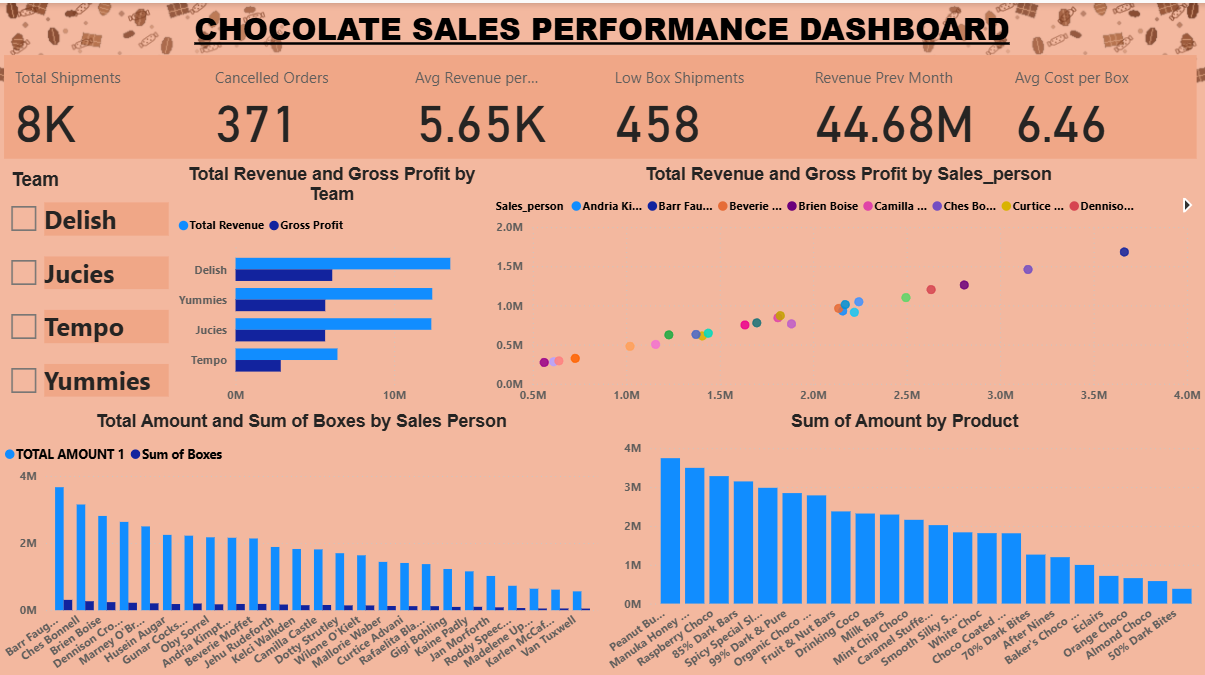

The dashboard page shown, as its layout file describes it:
{"tool":"powerbi","page":{"name":"Page 02","canvas":[1280,720],"ordinal":1},"visuals":[{"type":"textbox","box":[0,0,1278.9,63.6],"z":0},{"type":"cardVisual","fields":{"Data":["calendar.Total Shipments","calendar.Cancelled Orders","calendar.Avg Revenue per Shipment","calendar.Low Box Shipments","calendar.Revenue Prev Month","calendar.Avg Cost per Box"]},"box":[0,51,1279.4,120.9],"z":1000},{"type":"clusteredBarChart","fields":{"Category":["people.Team"],"Y":["calendar.Total Revenue","calendar.Gross Profit"]},"box":[185.2,172,336.4,262.7],"z":2000},{"type":"scatterChart","fields":{"Y":["calendar.Gross Profit"],"X":["calendar.Total Revenue"],"Series":["people.Sales_person"]},"box":[521.6,172,757.8,262.7],"z":3000},{"type":"clusteredColumnChart","fields":{"Category":["products.Product"],"Y":["Sum(shipments.Amount)"]},"box":[640.6,434.6,638.7,285.4],"z":4000},{"type":"clusteredColumnChart","title":"Total Amount and Sum of Boxes by Sales Person","fields":{"Category":["people.Sales_person"],"Y":["calendar.TOTAL AMOUNT 1","Sum(shipments.Boxes)"]},"box":[0,434.6,640.6,285.4],"z":5000},{"type":"slicer","fields":{"Values":["people.Team"]},"box":[0,172,185.2,262.7],"z":6000}]}

Visuals, with their boxes in screenshot pixels (x1, y1, x2, y2), scaled from the page's 1280x720 canvas onto the 1205x675 screenshot:
textbox: BBox(0, 0, 1204, 60)
cardVisual - calendar.Total Shipments x calendar.Cancelled Orders: BBox(0, 48, 1204, 161)
clusteredBarChart - people.Team x calendar.Total Revenue: BBox(174, 161, 491, 408)
scatterChart - calendar.Gross Profit x calendar.Total Revenue: BBox(491, 161, 1204, 408)
clusteredColumnChart - products.Product x Sum(shipments.Amount): BBox(603, 407, 1204, 674)
"Total Amount and Sum of Boxes by Sales Person" clusteredColumnChart: BBox(0, 407, 603, 674)
slicer - people.Team: BBox(0, 161, 174, 408)
